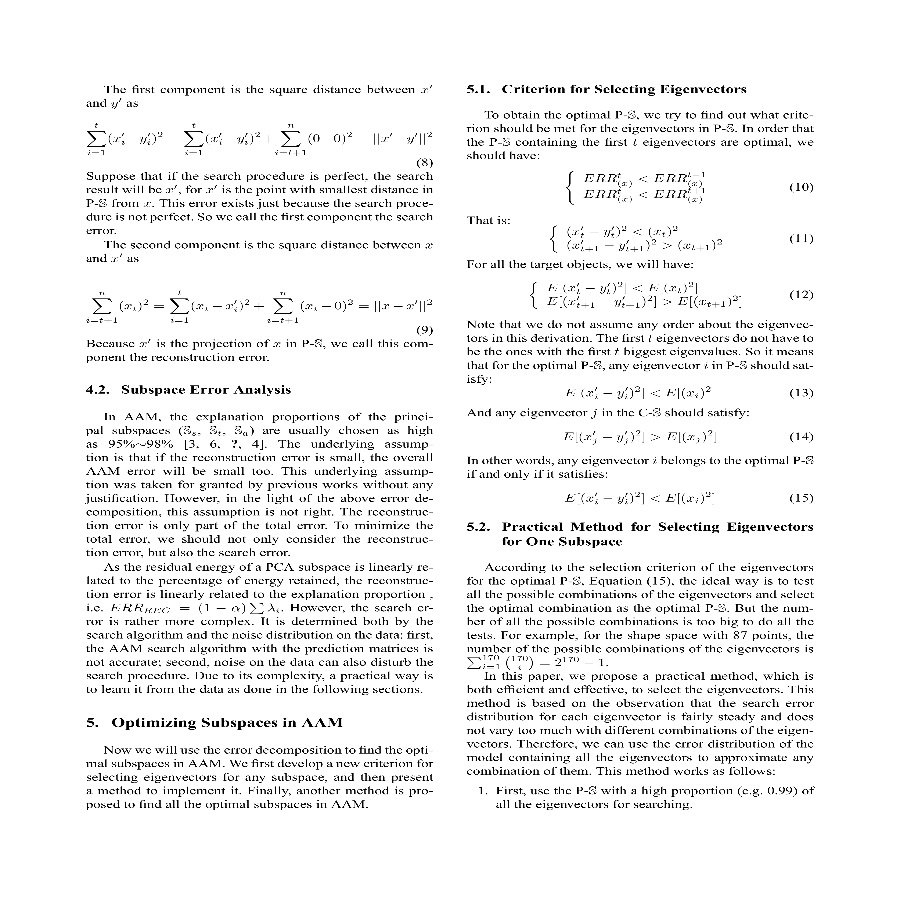eq: (88, 285, 436, 323), (84, 121, 435, 155), (527, 277, 737, 312), (545, 221, 726, 257), (561, 164, 710, 205), (561, 488, 718, 511), (561, 383, 715, 405), (561, 428, 722, 449)
